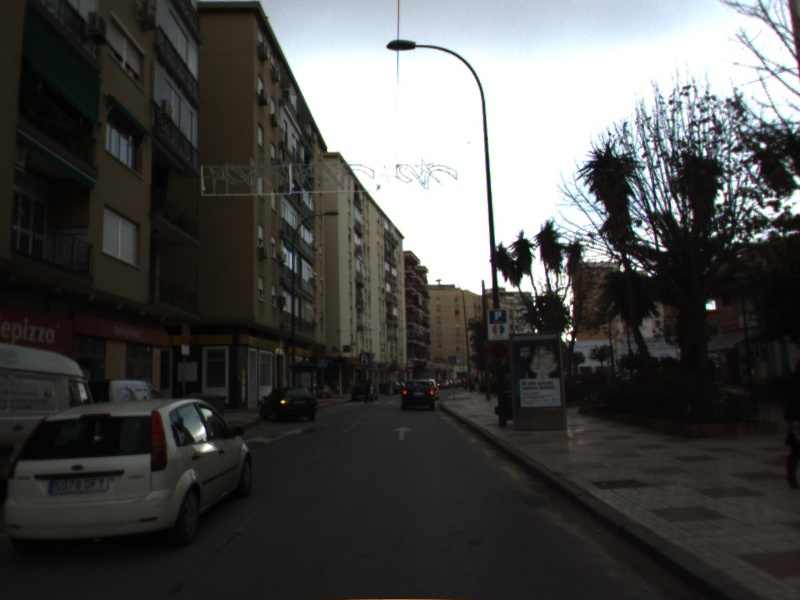STRAIGHT: (390, 423, 415, 442)
STRAIGHT_LEFT: (244, 427, 303, 447)
